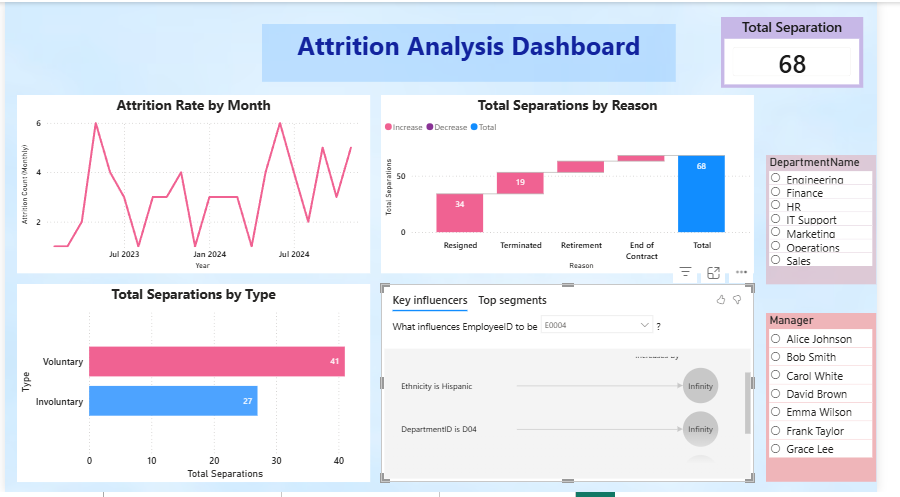

This screenshot's page, from the dashboard's own definition file:
{"tool":"powerbi","page":{"name":"ATTRITION ANALYSIS","canvas":[1280,720],"ordinal":1},"visuals":[{"type":"lineChart","title":" Attrition Rate by Month","fields":{"Y":["Table.Attrition Count (Monthly)"],"Category":["fSeparations (1).Separation Month Date.Variation.Date Hierarchy.Year","fSeparations (1).Separation Month Date.Variation.Date Hierarchy.Quarter","fSeparations (1).Separation Month Date.Variation.Date Hierarchy.Month","fSeparations (1).Separation Month Date.Variation.Date Hierarchy.Day"]},"box":[17.6,136.7,518.7,261.6],"z":0},{"type":"clusteredBarChart","fields":{"Category":["fSeparations (1).Type"],"Y":["Table.Total Separations"]},"box":[17.6,414.4,518.7,290.9],"z":1000},{"type":"waterfallChart","fields":{"Category":["fSeparations (1).Reason"],"Y":["Table.Total Separations"]},"box":[552.5,136.7,548.1,261.6],"z":2000},{"type":"keyDriversVisual","fields":{"Target":["fSeparations (1).EmployeeID"],"ExplainBy":["dEmployee (1).DepartmentID","dEmployee (1).JobRole","dDemographics (1).Gender","dEmployee (1).Manager","dDemographics (1).AgeGroup","dDemographics (1).Ethnicity"]},"box":[552.5,414.4,548.1,290.9],"z":3000},{"type":"cardVisual","title":"Total Separation","fields":{"Data":["Table.Total Separations"]},"box":[1052.1,22,208.7,104.3],"z":4000},{"type":"listSlicer","fields":{"Values":["dDepartment (1).DepartmentName"]},"box":[1118.2,224.8,161.6,189.6],"z":5000},{"type":"listSlicer","fields":{"Values":["dEmployee (1).Manager"]},"box":[1118.2,457,161.6,248.3],"z":6000},{"type":"textbox","box":[377.6,32.3,608.3,85.2],"z":7000}]}

Visuals, with their boxes in screenshot pixels (x1, y1, x2, y2), scaled from the page's 1280x720 canvas onto the 900x497 screenshot:
" Attrition Rate by Month" lineChart: 12 94 377 275
clusteredBarChart - fSeparations (1).Type x Table.Total Separations: 12 286 377 487
waterfallChart - fSeparations (1).Reason x Table.Total Separations: 388 94 774 275
keyDriversVisual - fSeparations (1).EmployeeID x dEmployee (1).DepartmentID: 388 286 774 487
"Total Separation" cardVisual: 740 15 886 87
listSlicer - dDepartment (1).DepartmentName: 786 155 899 286
listSlicer - dEmployee (1).Manager: 786 315 899 487
textbox: 266 22 693 81
